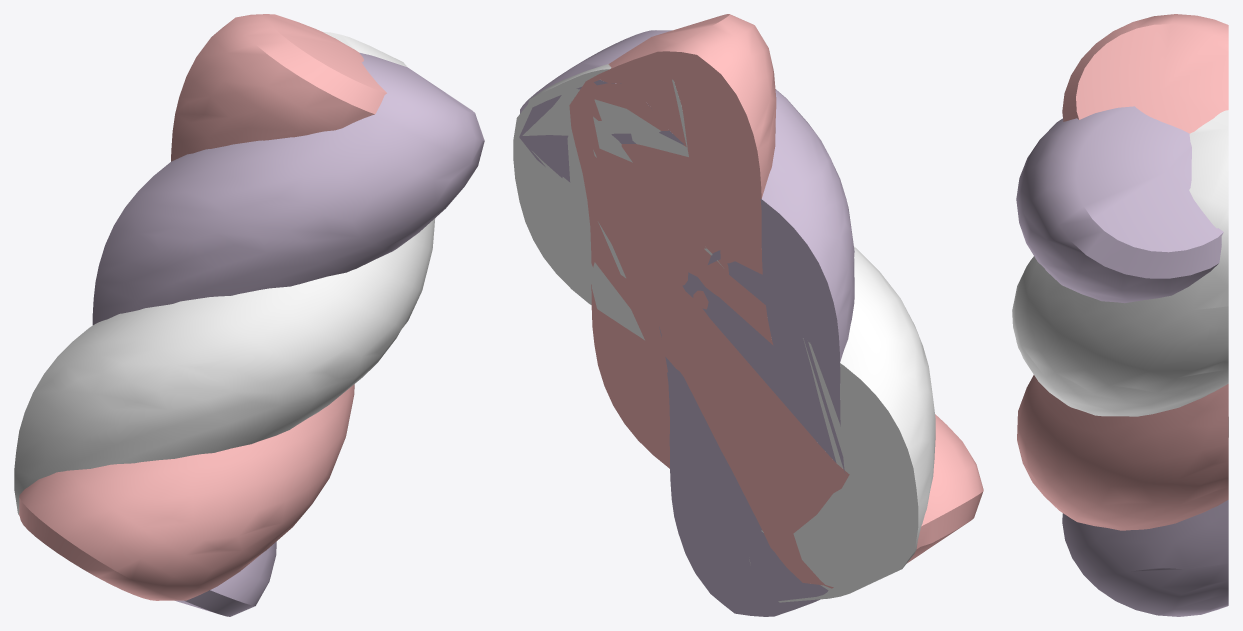
File: marshmallow.02.glb
3 renders of one model, left to right at view 1: azimuth 30°, elevation 25°; view 2: azimuth 150°, elevation 25°; view 3: azimuth 270°, elevation 25°, orthographic. The views are drawn at different scales.
Visible parts, largest first — view 1: marshmallow.02; view 2: marshmallow.02; view 3: marshmallow.02.
Part boxes in pixels (x1=…): marshmallow.02: x1=14, y1=14, x2=484, y2=616; marshmallow.02: x1=513, y1=14, x2=983, y2=616; marshmallow.02: x1=1012, y1=14, x2=1228, y2=616.
Size of the model in its own units: 12.43 by 15.4 by 4.92.
